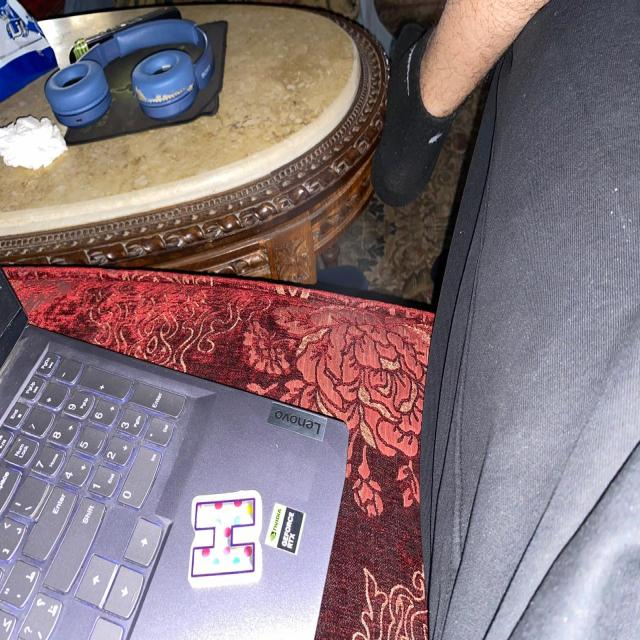H: (188, 490, 262, 588)
